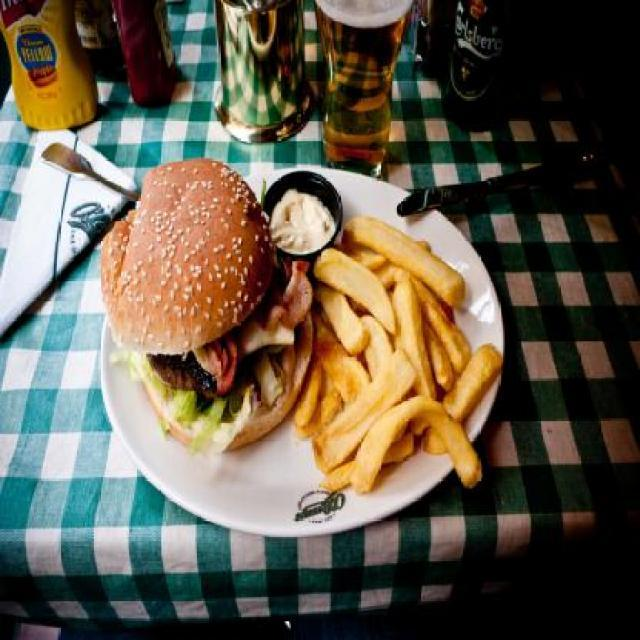Hamburger: (97, 156, 316, 458)
